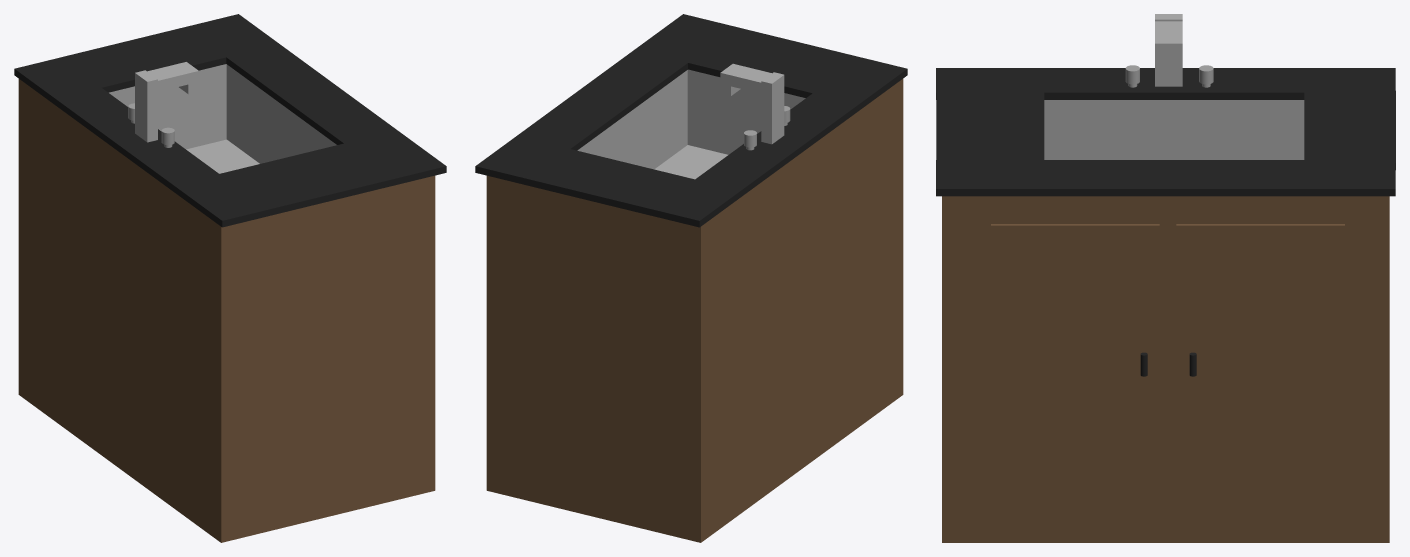
File: cat_sink.fbx
The picture shows the model from 3 angles, left to right: view 1: azimuth 30°, elevation 25°; view 2: azimuth 150°, elevation 25°; view 3: azimuth 270°, elevation 25°; orthographic projection. The views are drawn at different scales.
Parts seen in each view (by area): view 1: pasted__pasted__pCube3, pasted__pasted__pasted__pCube1, pasted__pasted__pasted__pCube3, pasted__pasted__pCube1, pasted__pasted__pasted__pasted__pCube1, pasted__pasted__pasted__pasted__pasted__pCube1, pasted__pasted__pasted__pasted__pasted__pasted__pCube3, pasted__pasted__pasted__pasted__pasted__pasted__pasted__pCub; view 2: pasted__pasted__pCube3, pasted__pasted__pasted__pCube1, pasted__pasted__pasted__pCube3, pasted__pasted__pCube1, pasted__pasted__pasted__pasted__pCube1, pasted__pasted__pasted__pasted__pasted__pCube1, pasted__pasted__pasted__pasted__pasted__pasted__pCube3, pasted__pasted__pasted__pasted__pasted__pasted__pasted__pCub; view 3: pasted__pasted__pasted__pasted__pasted__pasted__pasted__past (×3), pasted__pasted__pCube3, pasted__pasted__pasted__pCube1, pasted__pasted__pasted__pCube3, pasted__pasted__pCube1, pasted__pasted__pasted__pasted__pCube1, pasted__pasted__pasted__pasted__pasted__pCube1, pasted__pasted__pasted__pasted__pasted__pasted__pCube3, pasted__pasted__pasted__pasted__pasted__pasted__pasted__pCub.
Part boxes in pixels (bbox=[...]): pasted__pasted__pCube3: bbox=[18, 79, 435, 542]; pasted__pasted__pasted__pCube1: bbox=[186, 14, 446, 185]; pasted__pasted__pasted__pCube3: bbox=[109, 64, 336, 173]; pasted__pasted__pCube1: bbox=[14, 57, 268, 227]; pasted__pasted__pasted__pasted__pCube1: bbox=[220, 142, 397, 215]; pasted__pasted__pasted__pasted__pasted__pCube1: bbox=[59, 25, 231, 92]; pasted__pasted__pasted__pasted__pasted__pasted__pCube3: bbox=[135, 70, 157, 142]; pasted__pasted__pasted__pasted__pasted__pasted__pasted__pCub: bbox=[147, 62, 198, 93]; pasted__pasted__pCube3: bbox=[486, 79, 903, 542]; pasted__pasted__pasted__pCube1: bbox=[475, 14, 736, 184]; pasted__pasted__pasted__pCube3: bbox=[577, 69, 805, 179]; pasted__pasted__pCube1: bbox=[654, 58, 907, 227]; pasted__pasted__pasted__pasted__pCube1: bbox=[683, 26, 864, 97]; pasted__pasted__pasted__pasted__pasted__pCube1: bbox=[523, 149, 694, 216]; pasted__pasted__pasted__pasted__pasted__pasted__pCube3: bbox=[761, 72, 784, 144]; pasted__pasted__pasted__pasted__pasted__pasted__pasted__pCub: bbox=[720, 63, 771, 96]; pasted__pasted__pasted__pasted__pasted__pasted__pasted__past (×3): bbox=[991, 43, 1344, 504]; pasted__pasted__pCube3: bbox=[942, 196, 1389, 542]; pasted__pasted__pasted__pCube1: bbox=[936, 160, 1395, 196]; pasted__pasted__pasted__pCube3: bbox=[1044, 100, 1304, 159]; pasted__pasted__pCube1: bbox=[936, 68, 1395, 99]; pasted__pasted__pasted__pasted__pCube1: bbox=[936, 90, 1044, 162]; pasted__pasted__pasted__pasted__pasted__pCube1: bbox=[1304, 90, 1395, 169]; pasted__pasted__pasted__pasted__pasted__pasted__pCube3: bbox=[1155, 14, 1182, 86]; pasted__pasted__pasted__pasted__pasted__pasted__pasted__pCub: bbox=[1155, 21, 1182, 43].
Bounding box in the file's own units: 68.22 × 106 × 104.
